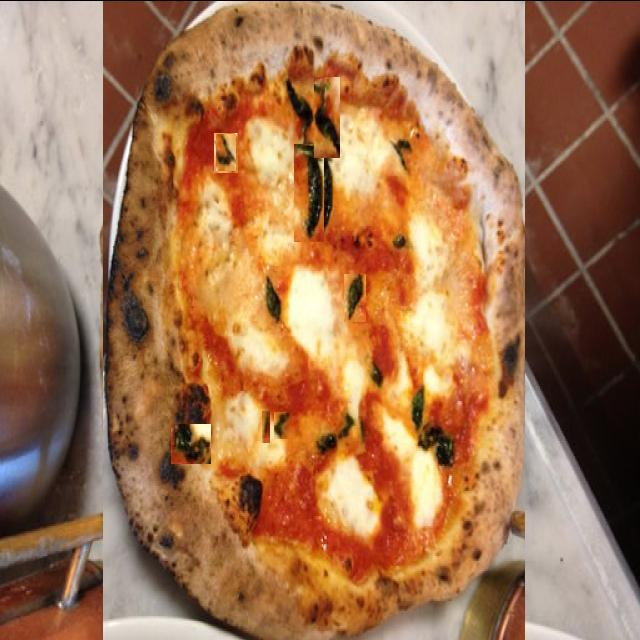basil: (294, 143, 324, 241), (314, 76, 340, 157), (171, 423, 211, 463), (344, 273, 366, 321), (214, 132, 238, 172), (200, 379, 217, 430), (216, 133, 236, 170), (290, 432, 313, 457), (274, 411, 290, 438), (246, 360, 257, 386), (262, 410, 270, 442), (220, 232, 237, 246), (220, 234, 233, 246)
pizza: (103, 0, 525, 640)
